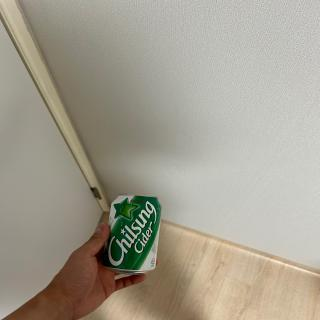cocacola: (97, 192, 164, 275)
